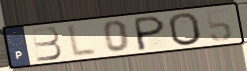0: (101, 19, 133, 54)
5: (203, 7, 234, 43)
B: (29, 25, 64, 63)
L: (66, 22, 99, 59)
O: (167, 11, 204, 47)
P: (134, 14, 167, 52)
